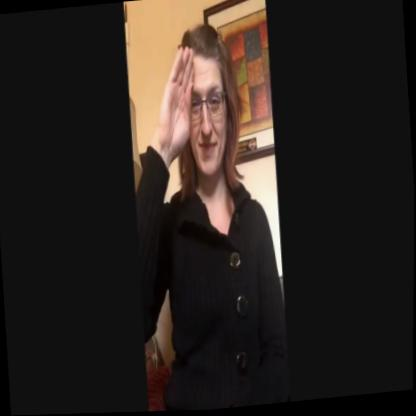Hello: (147, 6, 267, 237)
